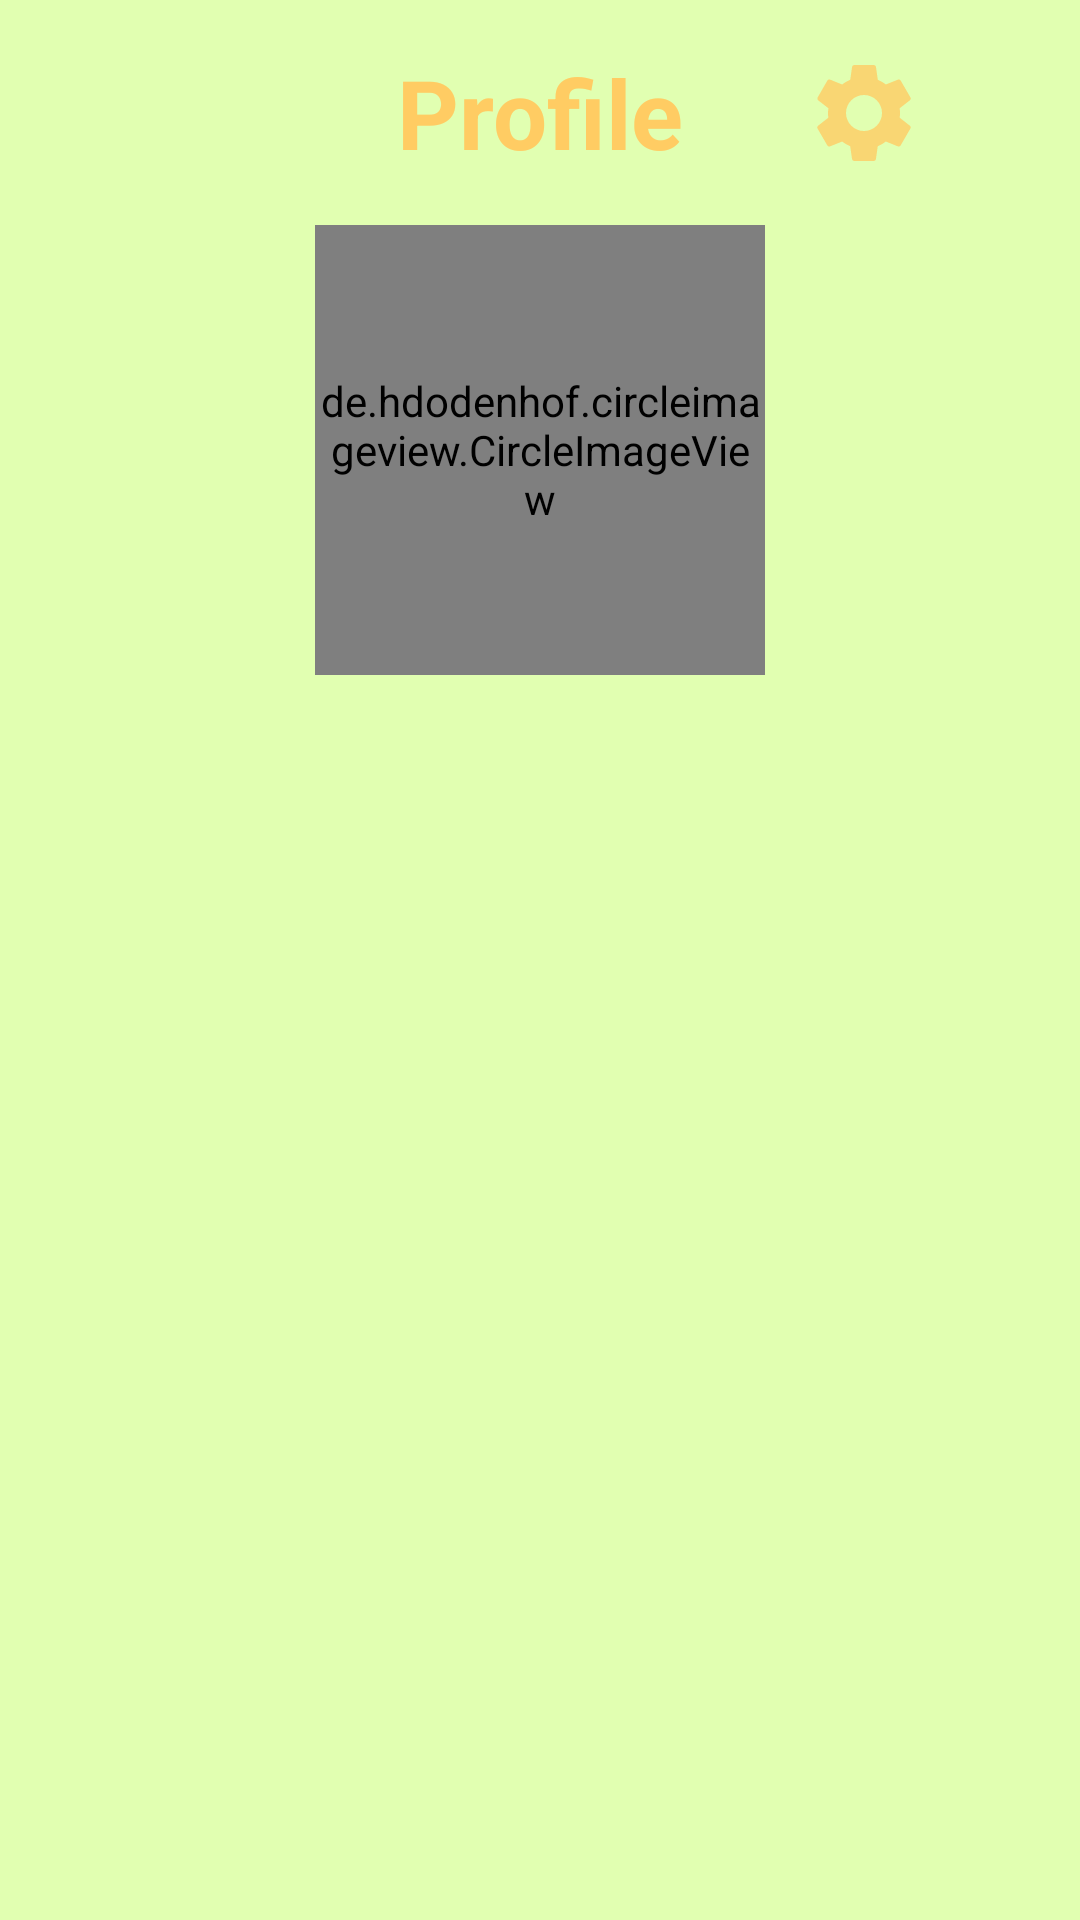

Named icons in this screenshot (1080*1920) and their centers, point (x, y):
settings: point (864, 113)
